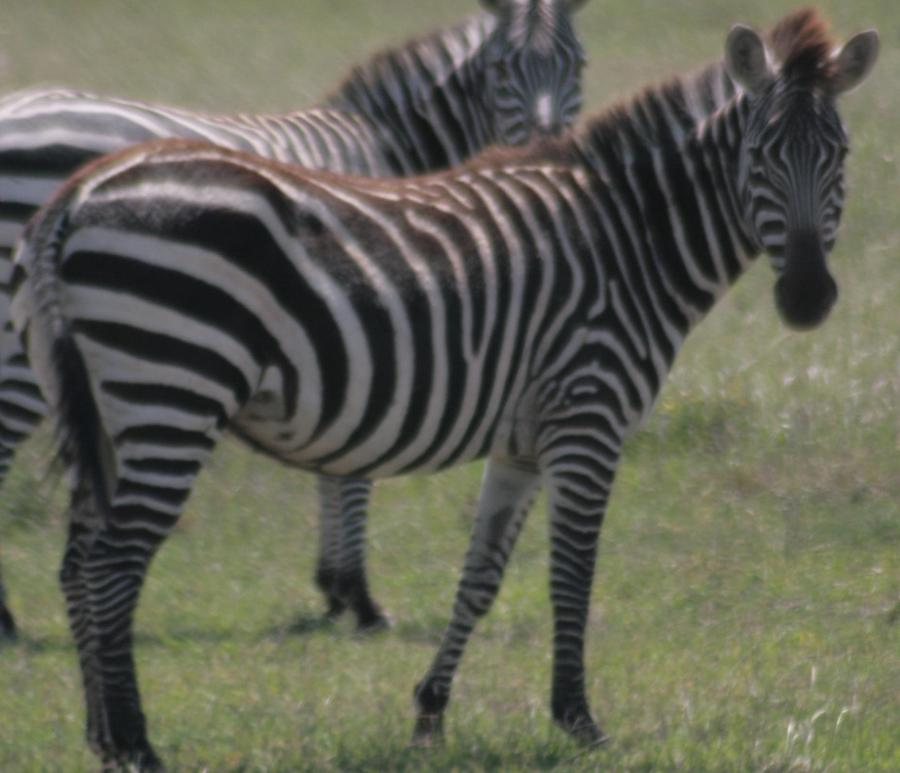zebra_plains: (79, 131, 678, 479)
